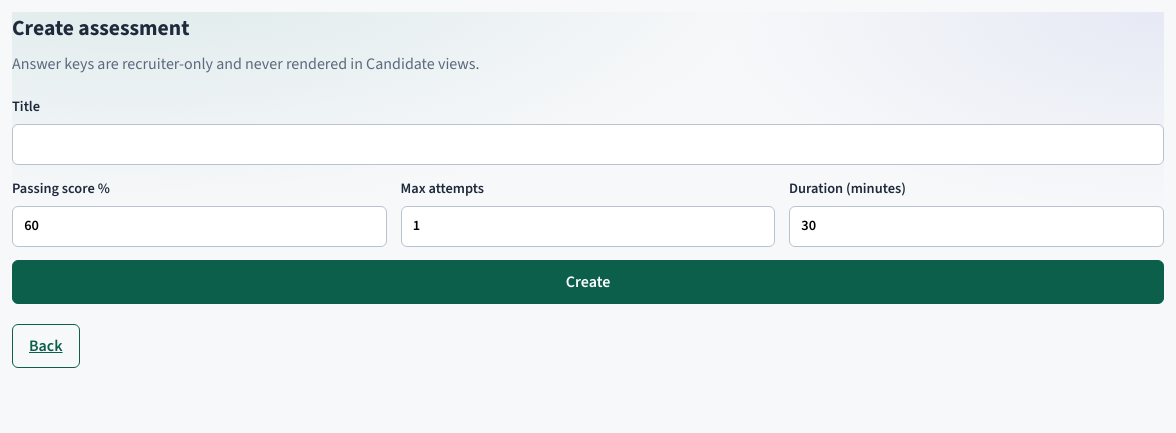
Test: Phase 5.2 recruiter UI › validates assessment builder title
This screenshot has width=1176, height=433.
Click the button "Create" at (588, 282), box [12,260,1164,304]
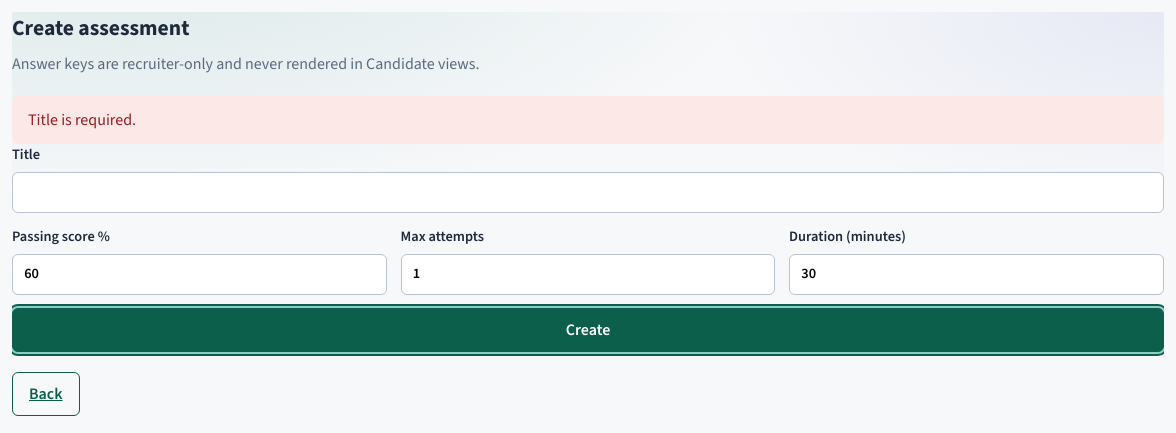
Check: the text "Title is required." is shown, box [12,96,1164,144]
